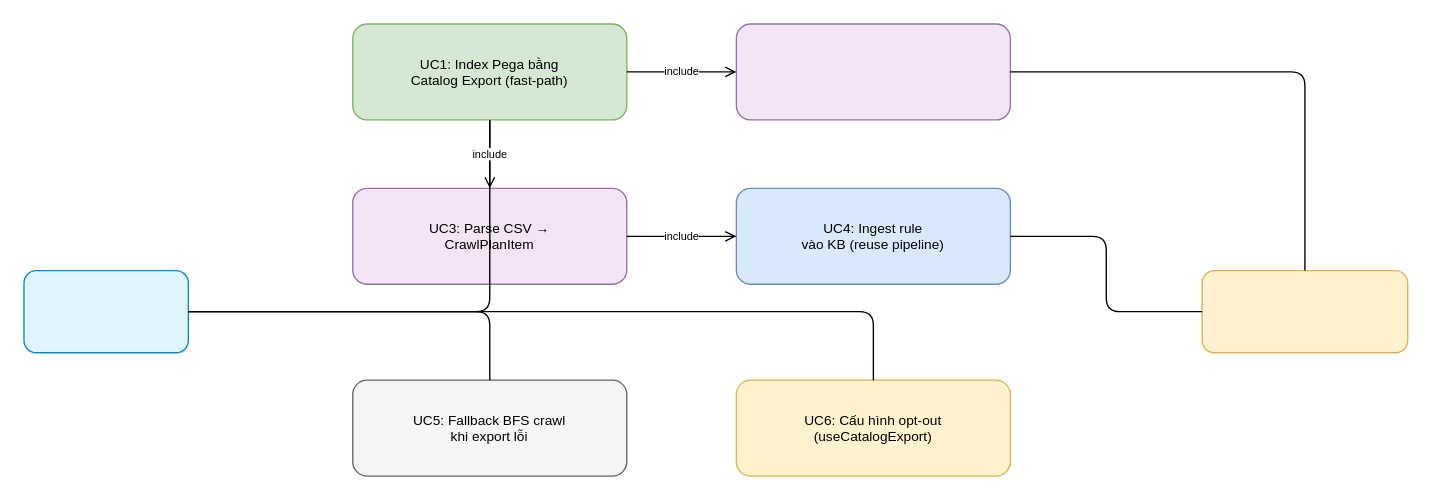
This 1432x500 diagram has some shape labels left out. Here are the shapes that lost their labels. From the top down, the centre of each, then its label:
At (872,71): "UC2: Tải + giải nén catalog CSV".
At (105,311): "Developer (Actor)".
At (1304,311): "Pega Platform (CodeIntelligence API)".
